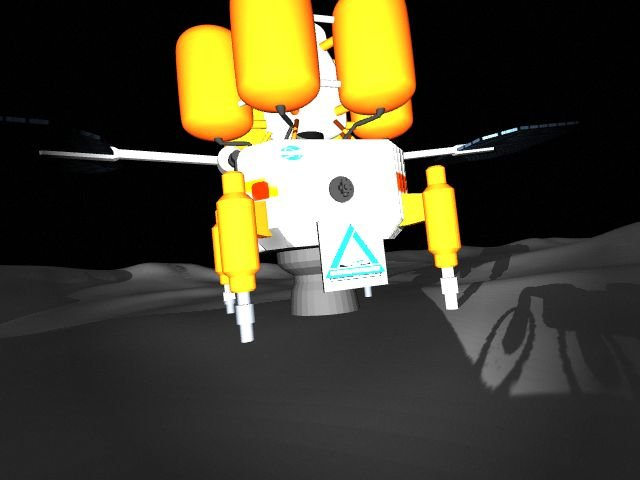basemarker: (326, 223, 387, 281)
